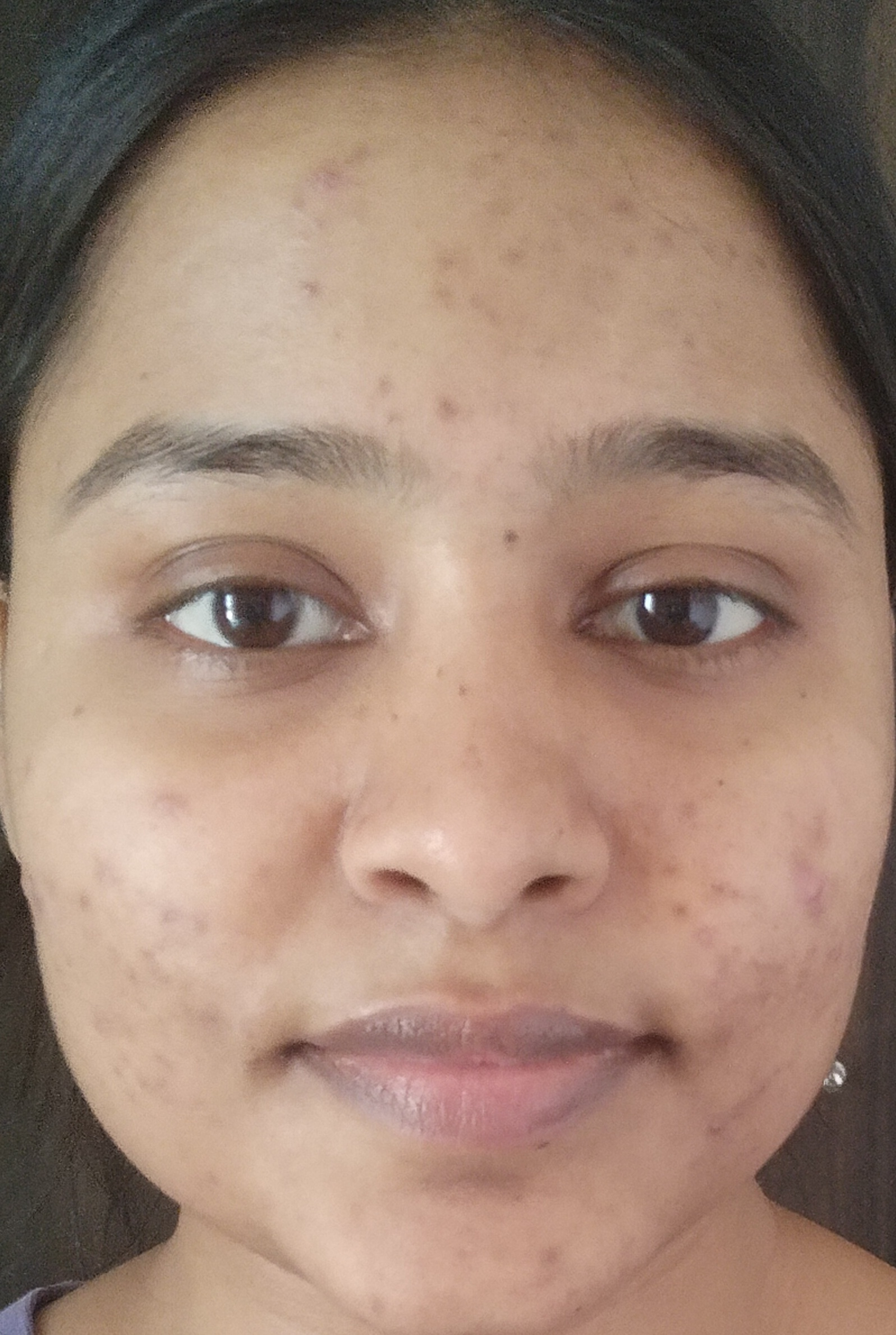papule: (297, 149, 387, 226), (183, 981, 251, 1074), (773, 832, 837, 924), (412, 373, 473, 444), (480, 230, 542, 298), (506, 1219, 557, 1299), (147, 781, 200, 834)
